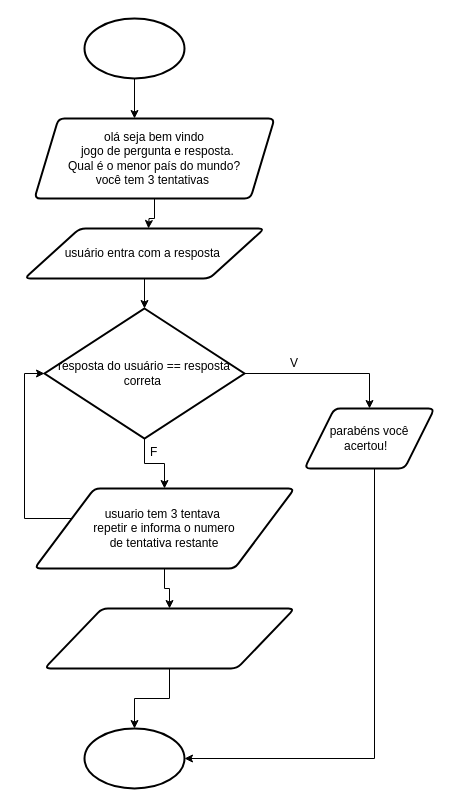
This 453x806 diagram has some shape labels left out. The centre of each missing label's shape, as x and y in pixels:
acabaram todas as tentativas fim do jogo: the point at 169,638
fim: the point at 134,758
inicio: the point at 134,48
